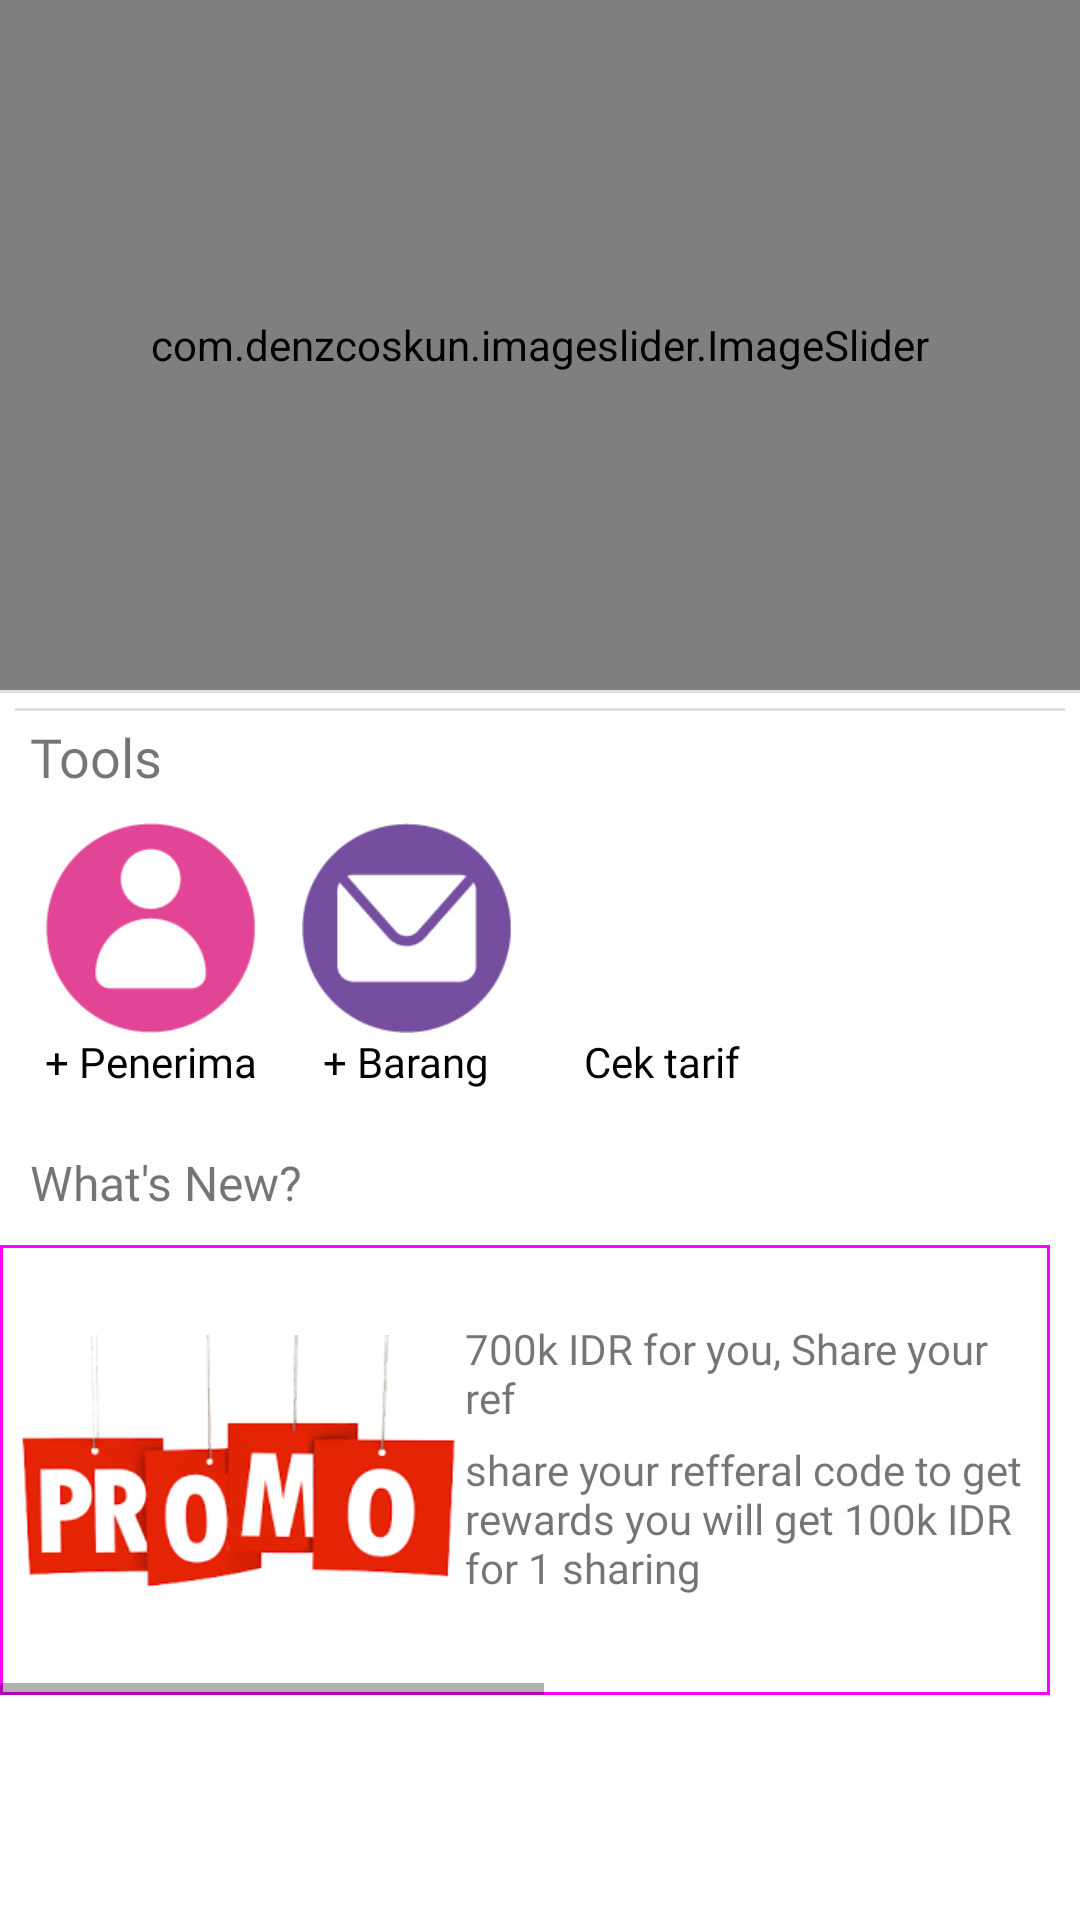

Named icons in this screenshot (1080w x 1920h) and their bounding boxes, (x1=x1, y1=y1, x2=x2, y2=y2):
smsicon: (x1=302, y1=823, x2=511, y2=1033)
